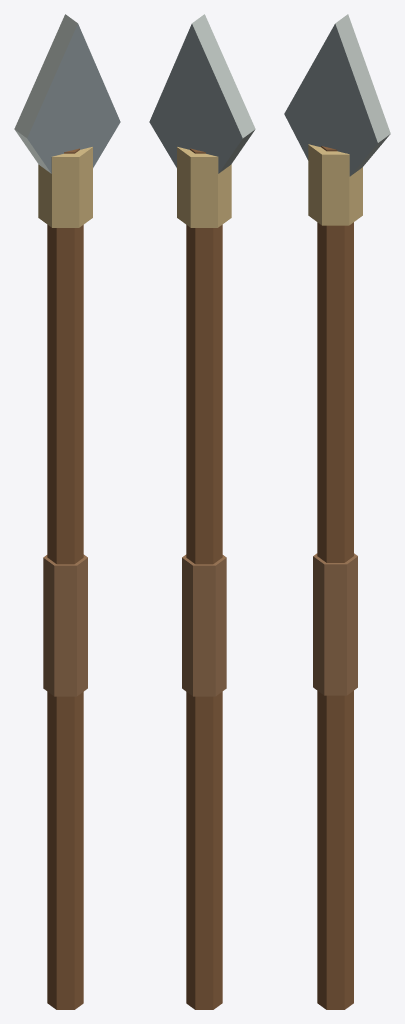
The model's file is spear.glb.
3 views of the same model, side by side, from view 1: azimuth 30°, elevation 25°; view 2: azimuth 150°, elevation 25°; view 3: azimuth 330°, elevation 25° (orthographic).
Visible parts, largest first — view 1: spear; view 2: spear; view 3: spear.
Boxes of the visible parts, left/top/right/bottom form: spear: left=14, top=14, right=120, bottom=1009; spear: left=149, top=14, right=255, bottom=1009; spear: left=284, top=14, right=390, bottom=1009.
Size of the model in its own units: 0.202 by 2.03 by 0.102.
